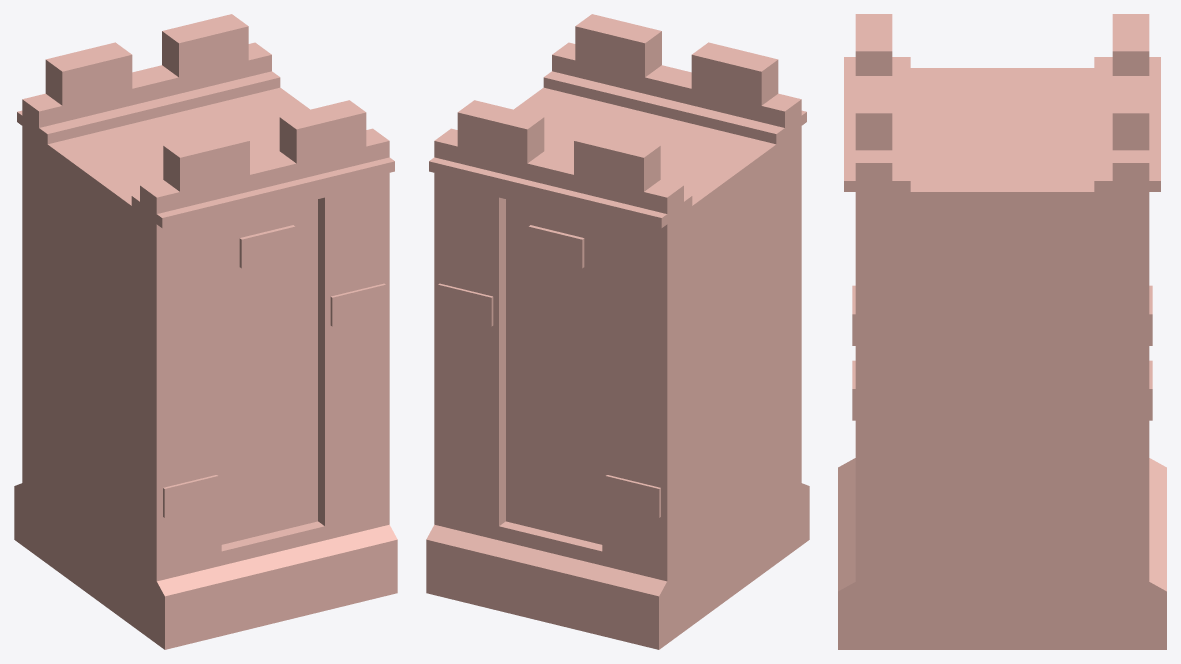
Rendered from Mega_Asset_s_Pack_Cube_358.FBX.
3 renders of one model, left to right at view 1: azimuth 30°, elevation 25°; view 2: azimuth 150°, elevation 25°; view 3: azimuth 270°, elevation 25°, orthographic. The views are drawn at different scales.
Visible parts, largest first — view 1: Mega_Asset_s_Pack_Cube_358; view 2: Mega_Asset_s_Pack_Cube_358; view 3: Mega_Asset_s_Pack_Cube_358.
Part boxes in pixels (x1,y1,x2,y2): Mega_Asset_s_Pack_Cube_358: (14, 14, 397, 649); Mega_Asset_s_Pack_Cube_358: (426, 14, 809, 649); Mega_Asset_s_Pack_Cube_358: (838, 14, 1166, 649).
Size of what is drawn, in the model's own units: 498 by 557 by 981.
